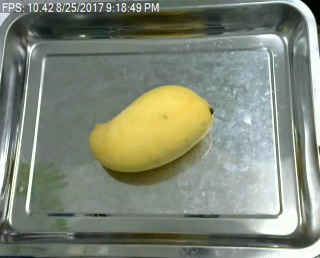Mango: (86, 85, 216, 173)
